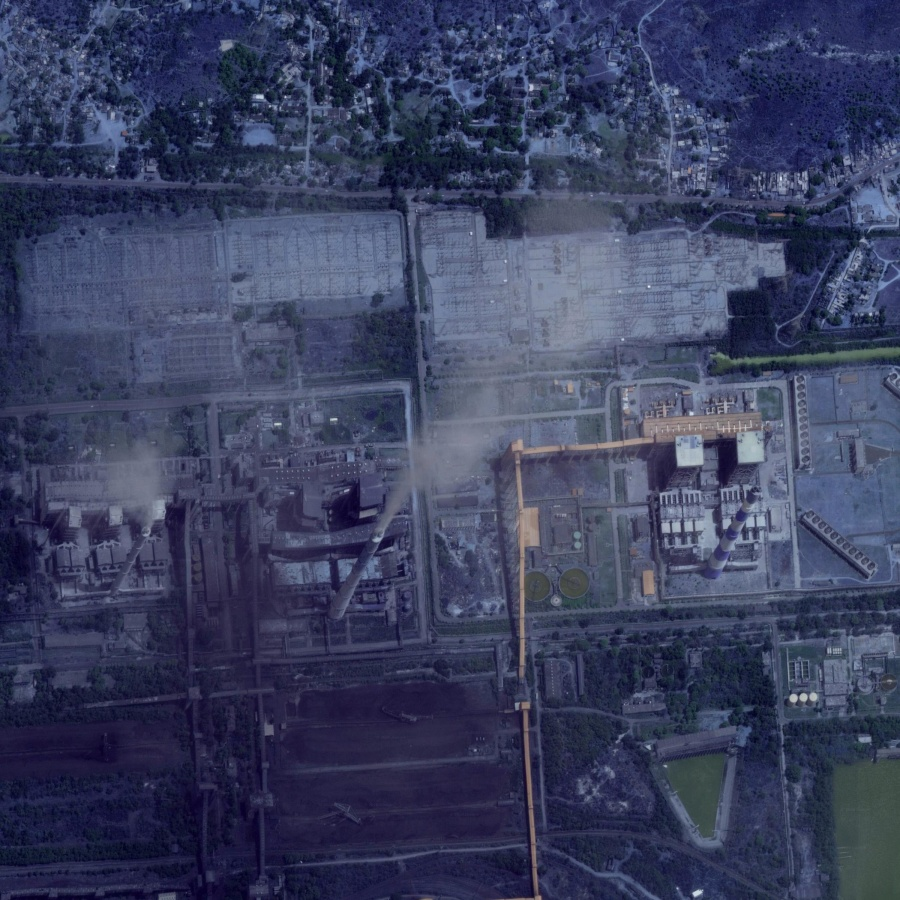PowerPlant: (652, 413, 776, 593)
